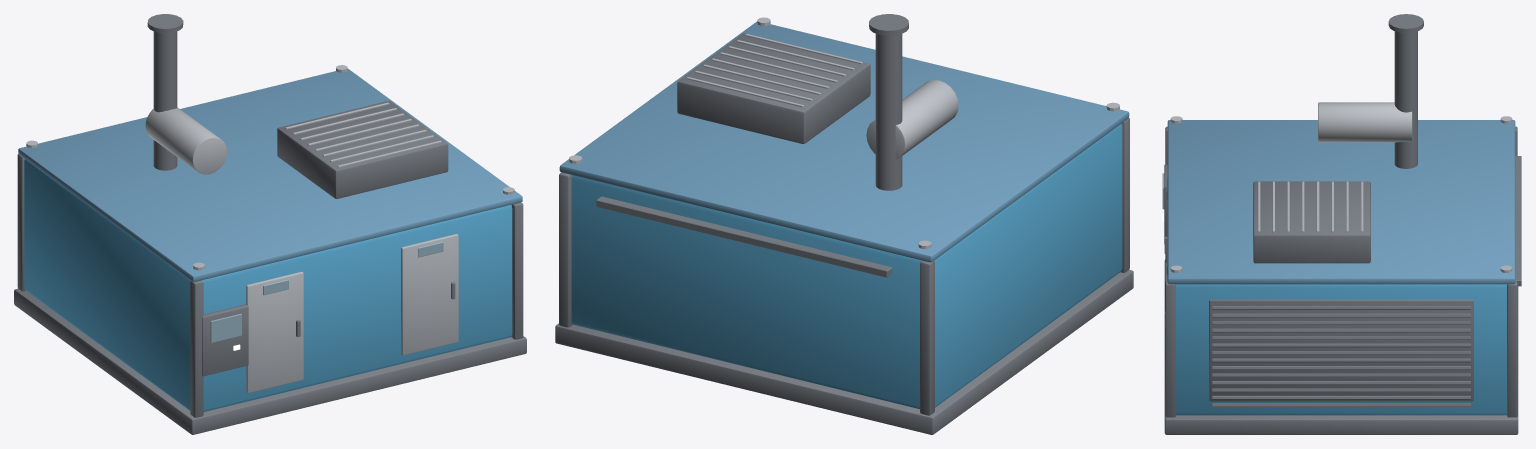
File: genset.glb
The picture shows the model from 3 angles, left to right: view 1: azimuth 30°, elevation 25°; view 2: azimuth 150°, elevation 25°; view 3: azimuth 270°, elevation 25°; orthographic projection. The views are drawn at different scales.
Visible parts, largest first — view 1: genset; view 2: genset; view 3: genset.
Part boxes in pixels (x1,y1,x2,y2): genset: (14, 14, 526, 434); genset: (555, 14, 1133, 434); genset: (1162, 14, 1521, 434).
Size of the model in its own units: 6.5 by 5.59 by 6.11.
